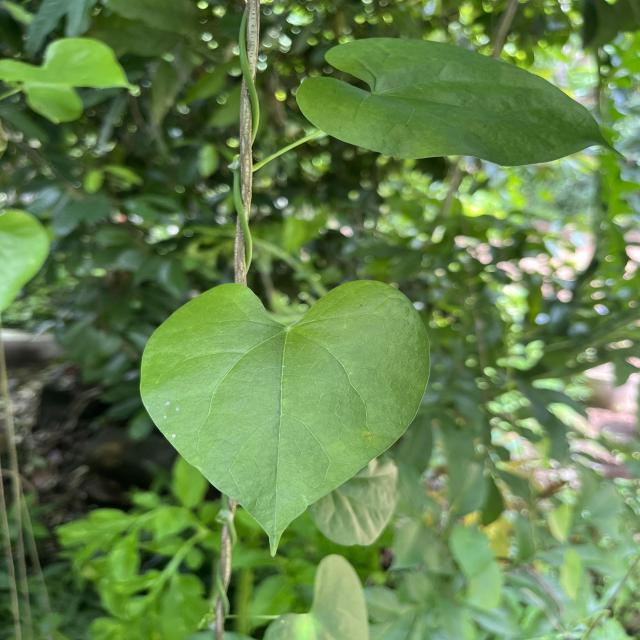Tinospora cordifolia: (134, 276, 433, 561), (294, 34, 630, 174)
